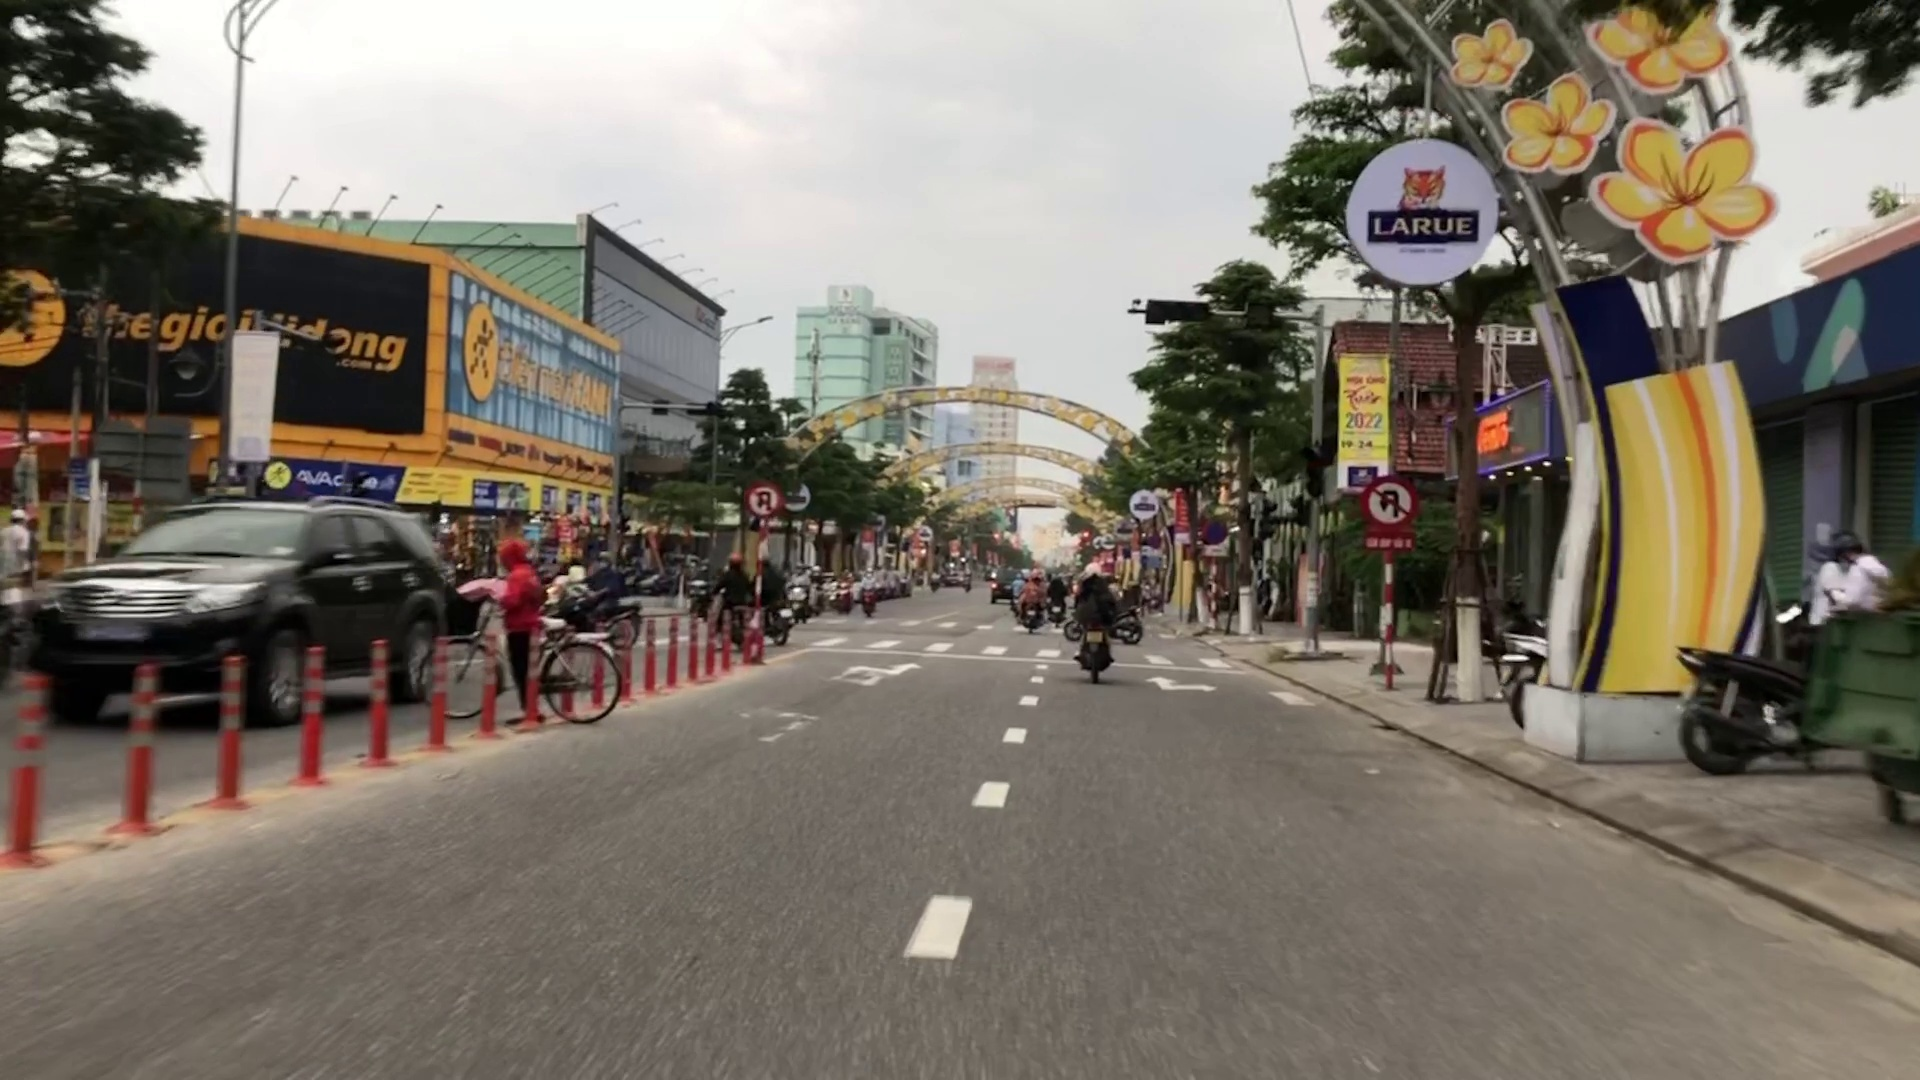Bien khac: (1360, 477, 1416, 531), (746, 485, 774, 518)
